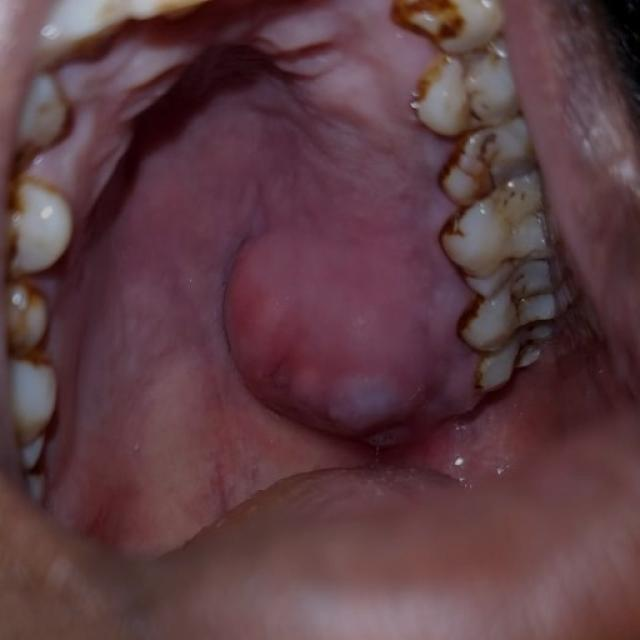cancer-detection: (213, 207, 446, 472)
processing_area: (35, 5, 614, 565)
